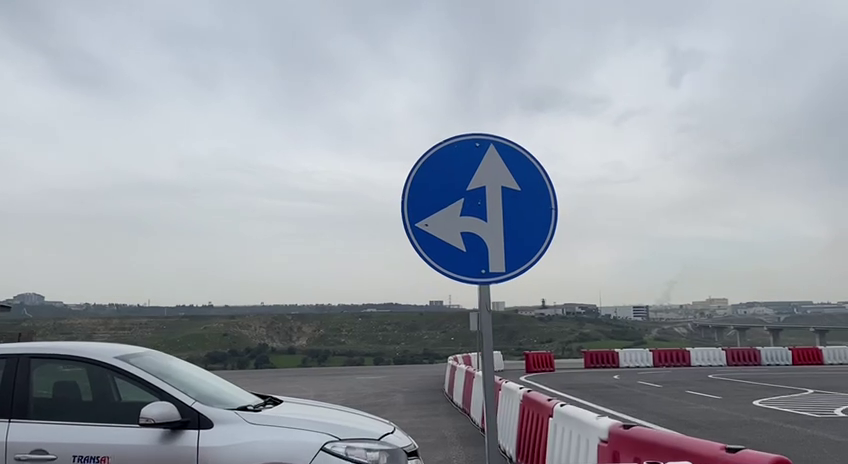forwardAndLeft: (393, 127, 564, 293)
